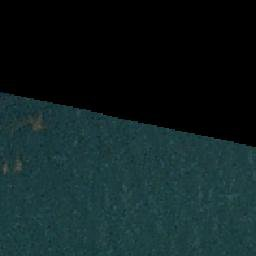debris: (22, 112, 47, 130), (1, 157, 26, 173)
